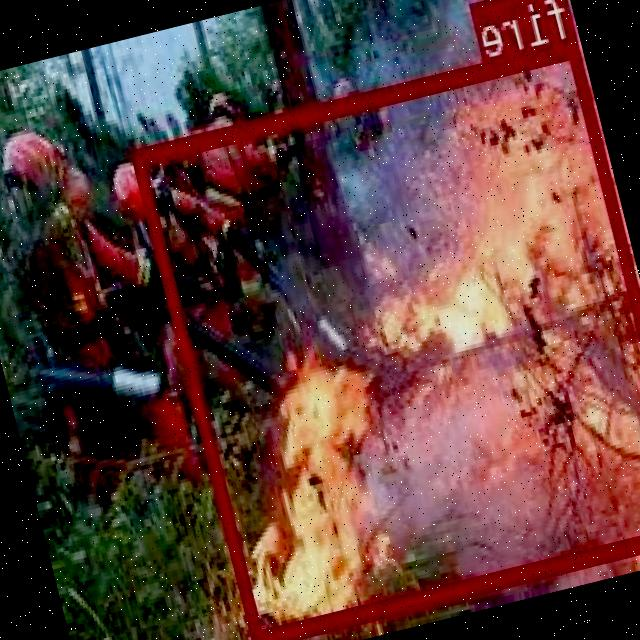fire: (133, 37, 640, 640)
